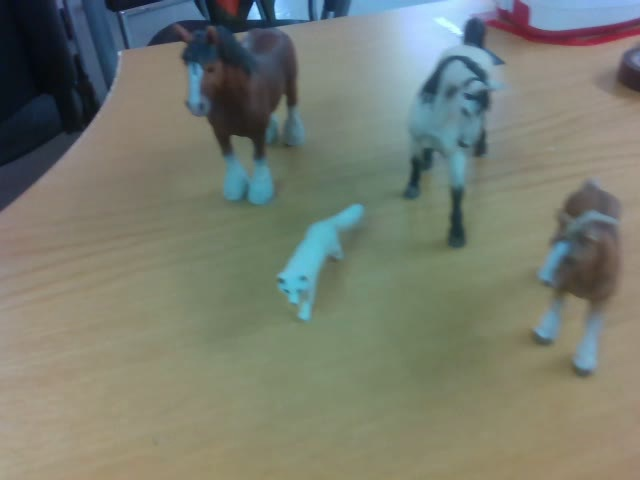toy: (169, 20, 302, 204), (408, 18, 504, 248), (535, 176, 624, 376), (277, 206, 363, 319)
